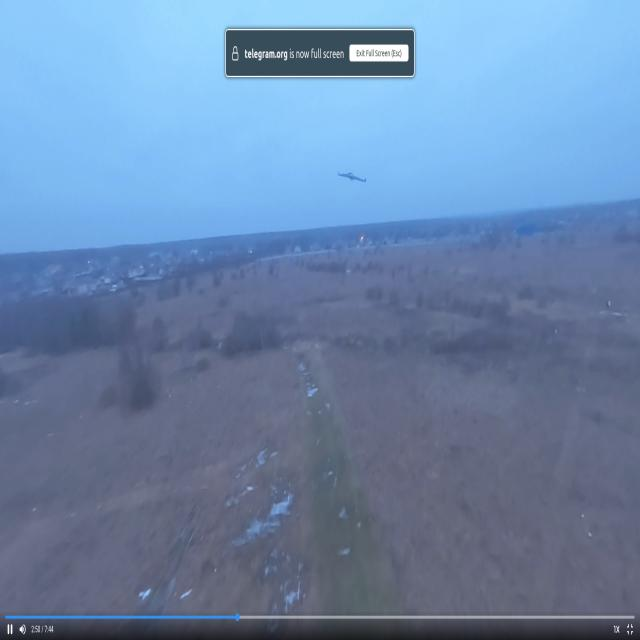planedrone: (335, 162, 369, 188)
